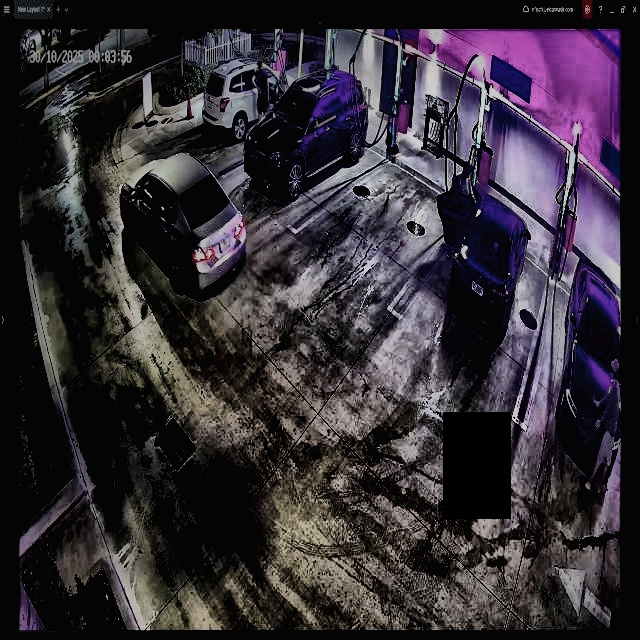Car: (117, 153, 247, 294), (241, 64, 365, 200), (441, 170, 530, 340)
